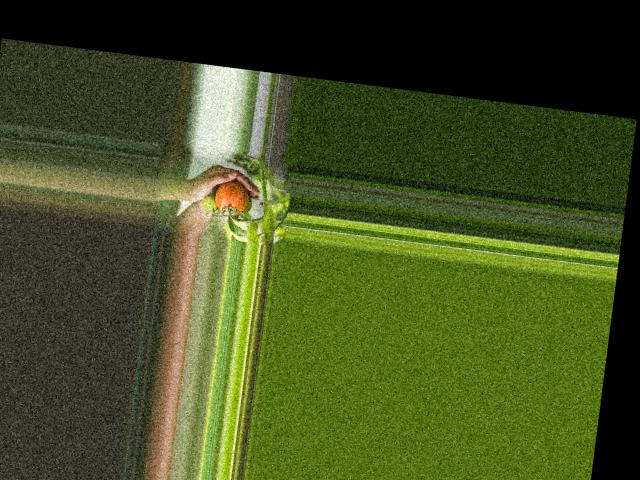tomato: (213, 179, 249, 216)
